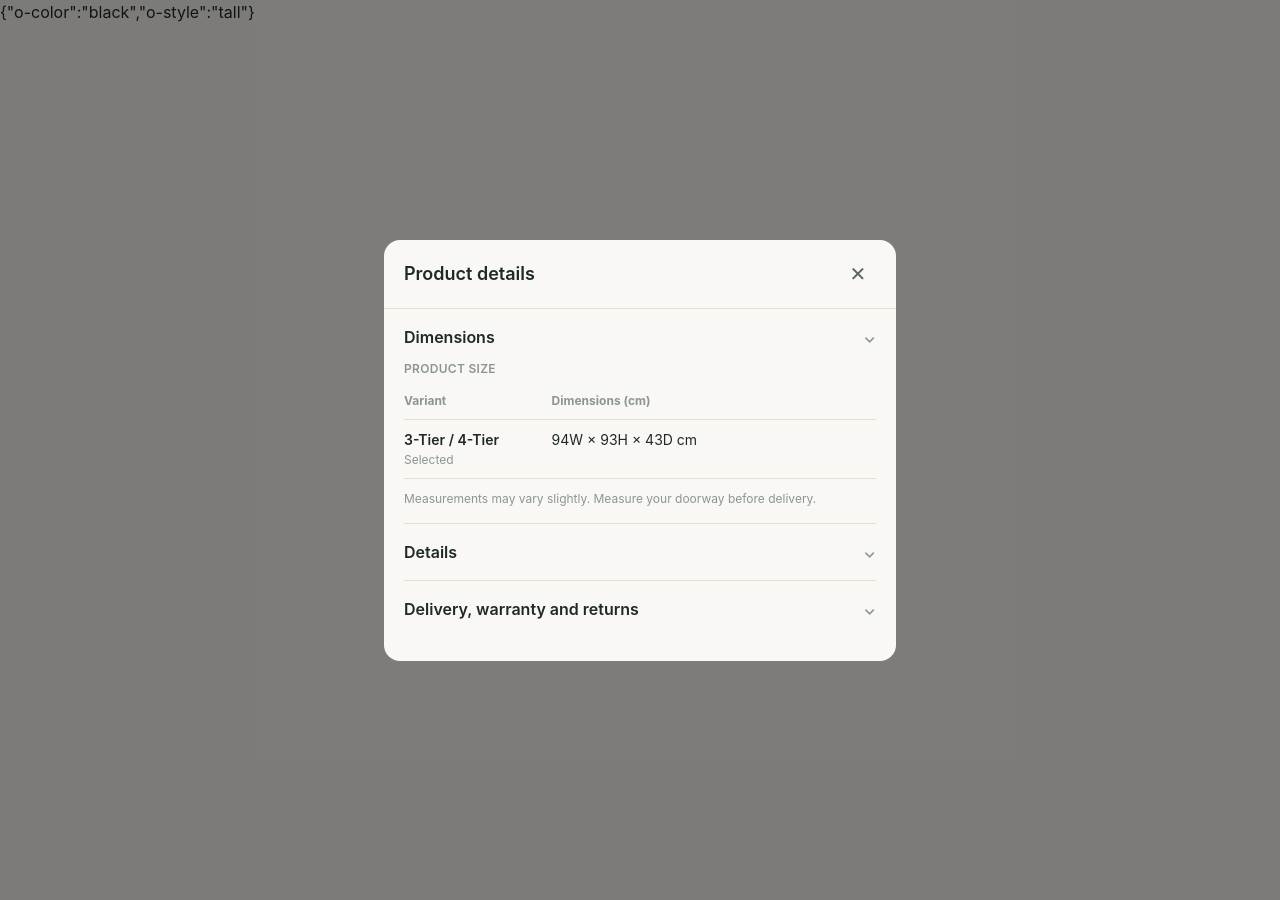
Test case: ProductDetailsModal › keeps later options and disables only what the earlier choices rule out
Click the heading "Details ⌄" at (431, 552), box x1=404 y1=540 x2=876 y2=564
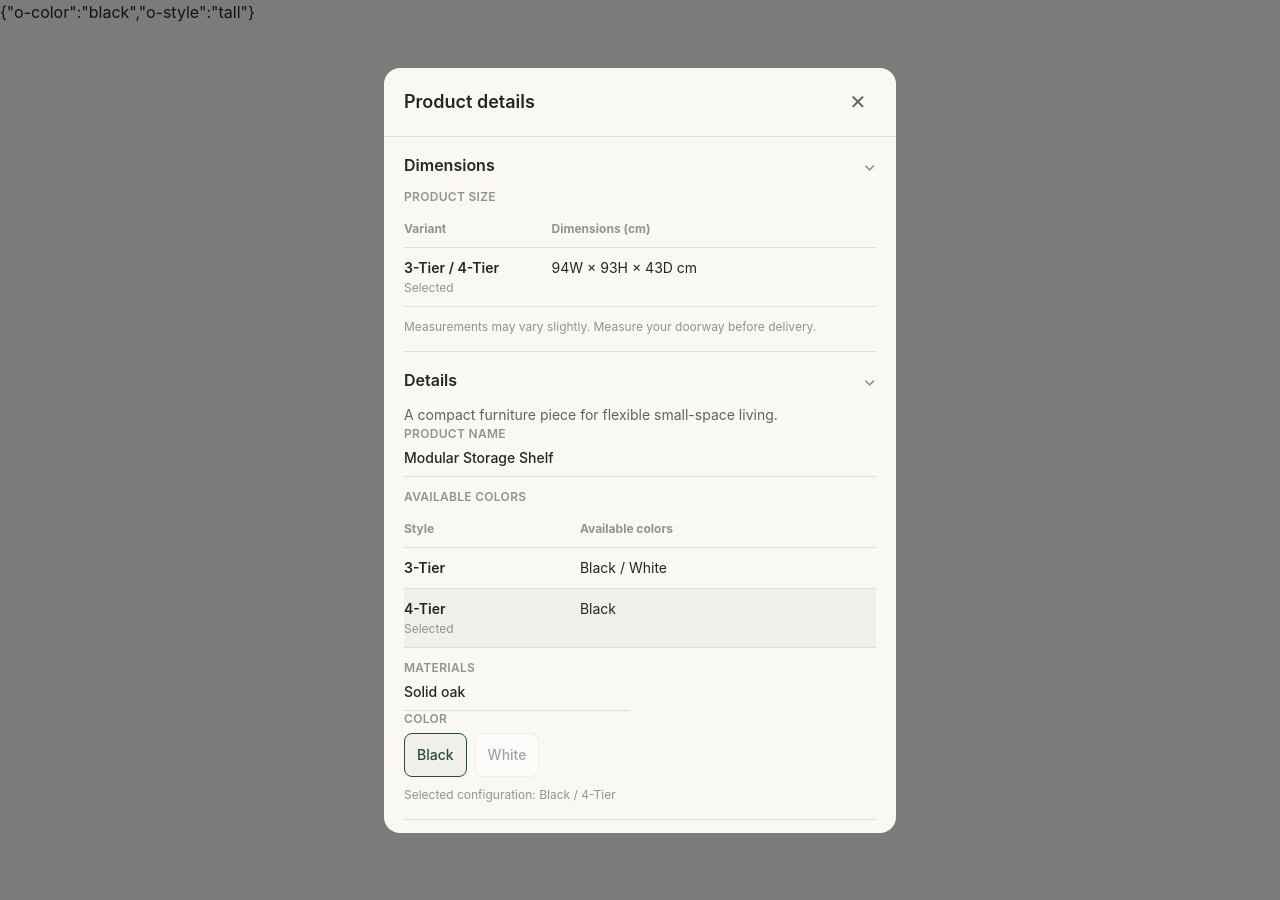
Check: the button "Black" is enabled, box x1=404 y1=733 x2=467 y2=777
Check: the button "White" is disabled, box x1=475 y1=733 x2=539 y2=777
